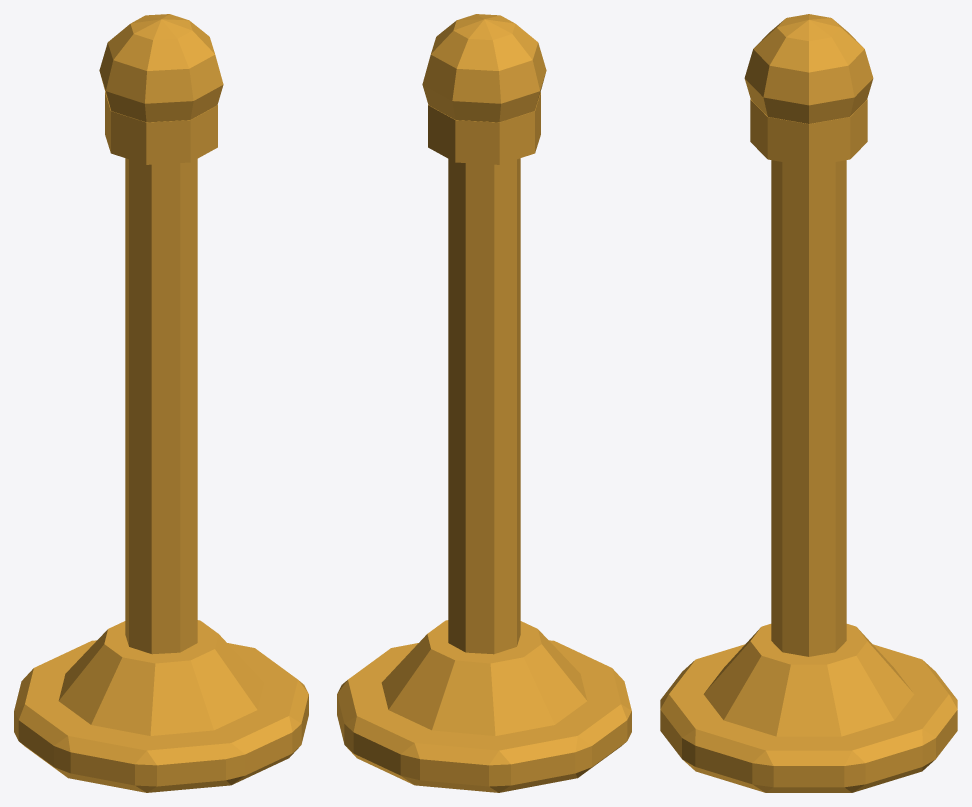
The model's file is stanchion.glb.
The picture shows the model from 3 angles, left to right: view 1: azimuth 30°, elevation 25°; view 2: azimuth 150°, elevation 25°; view 3: azimuth 270°, elevation 25°; orthographic projection.
Parts seen in each view (by area): view 1: stanchion; view 2: stanchion; view 3: stanchion.
Part boxes in pixels (bbox=[...]): stanchion: bbox=[14, 14, 308, 792]; stanchion: bbox=[337, 14, 631, 792]; stanchion: bbox=[660, 14, 957, 792].
Size of the model in its own units: 0.2473 by 0.675 by 0.2538.
